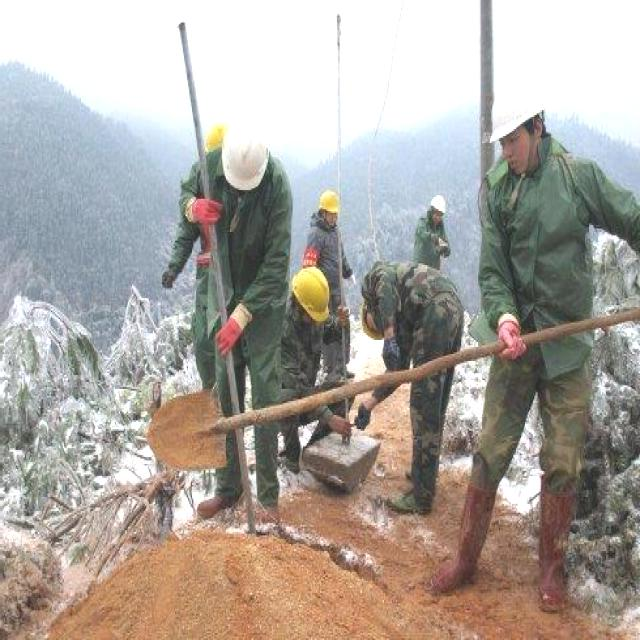boots: (523, 483, 586, 616), (422, 488, 495, 597)
face_nomask: (495, 126, 532, 172)
hand_glove: (494, 316, 530, 362), (189, 192, 227, 226), (214, 315, 242, 357)
head_helmet: (484, 73, 550, 145), (219, 113, 274, 190), (289, 260, 335, 326), (316, 189, 343, 216), (426, 194, 449, 216)
person: (420, 75, 637, 612), (173, 110, 302, 534), (350, 254, 471, 528), (269, 266, 333, 471), (298, 187, 352, 399), (413, 185, 456, 281)
shoes: (197, 479, 247, 521), (249, 480, 285, 537), (389, 478, 440, 518)
